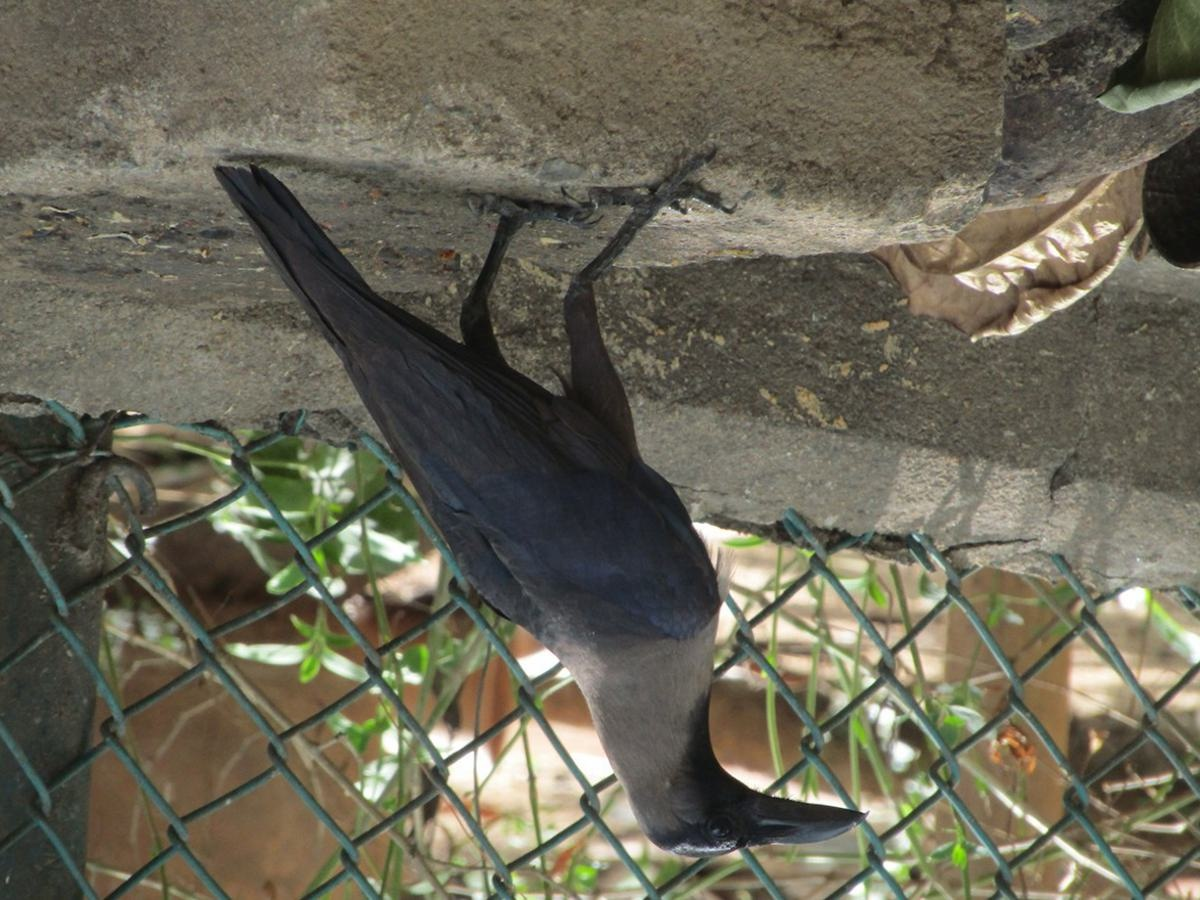crow: (196, 123, 878, 859)
